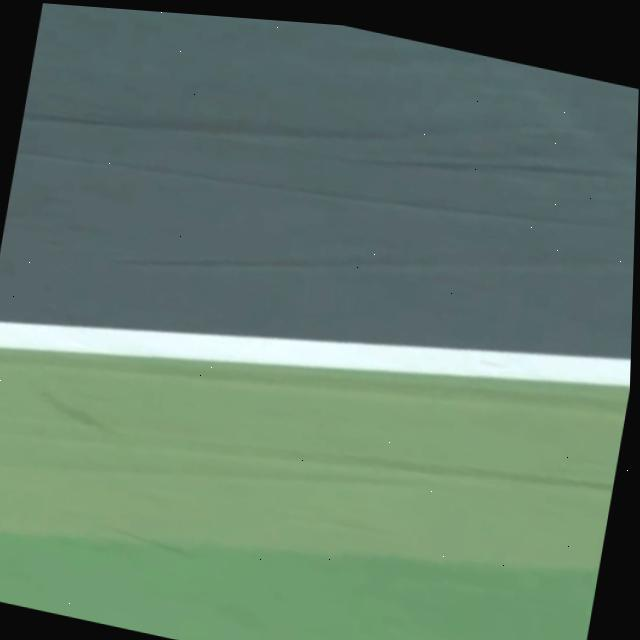right: (0, 321, 631, 386)
